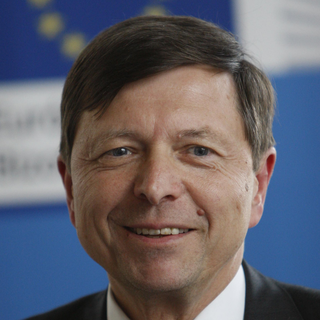eye: (178, 139, 223, 165), (94, 143, 141, 163)
